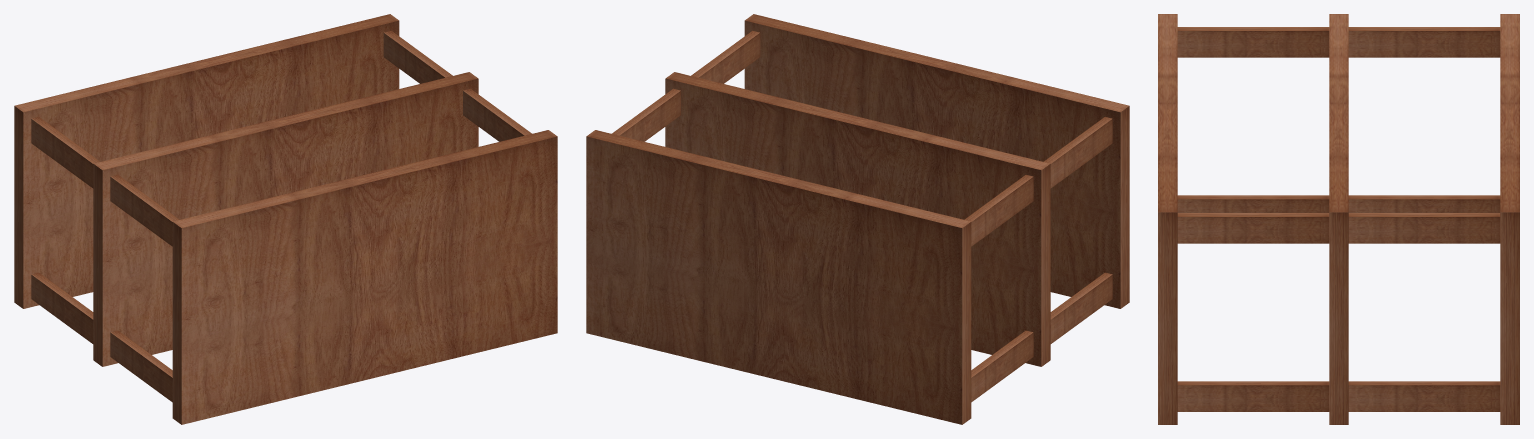
File: book_shelf.obj
The picture shows the model from 3 angles, left to right: view 1: azimuth 30°, elevation 25°; view 2: azimuth 150°, elevation 25°; view 3: azimuth 270°, elevation 25°; orthographic projection. The views are drawn at different scales.
Visible parts, largest first — view 1: Cube_03, Cube_02, Cube, Cube_08, Cube_07, Cube_06, Cube_09, Cube_10, Cube_05; view 2: Cube, Cube_02, Cube_03, Cube_07, Cube_08, Cube_09, Cube_06, Cube_05, Cube_10; view 3: Cube, Cube_02, Cube_03, Cube_01, Cube_04, Cube_05, Cube_07, Cube_08, Cube_10, Cube_06, Cube_09.
Boxes of the visible parts, x1,y1,x2,y2 form: Cube_03: [172, 130, 557, 424]; Cube_02: [93, 72, 478, 366]; Cube: [14, 14, 399, 308]; Cube_08: [31, 117, 100, 188]; Cube_07: [110, 175, 179, 246]; Cube_06: [110, 330, 172, 402]; Cube_09: [31, 272, 93, 343]; Cube_10: [383, 30, 452, 83]; Cube_05: [463, 88, 531, 141]; Cube: [586, 130, 971, 424]; Cube_02: [665, 72, 1050, 366]; Cube_03: [744, 14, 1129, 308]; Cube_07: [1043, 117, 1112, 188]; Cube_08: [964, 175, 1033, 246]; Cube_09: [971, 330, 1033, 402]; Cube_06: [1050, 272, 1112, 343]; Cube_05: [691, 30, 760, 83]; Cube_10: [612, 88, 680, 141]; Cube: [1500, 14, 1519, 424]; Cube_02: [1329, 14, 1348, 424]; Cube_03: [1158, 14, 1177, 424]; Cube_01: [1348, 381, 1500, 411]; Cube_04: [1177, 381, 1329, 411]; Cube_05: [1177, 213, 1329, 243]; Cube_07: [1177, 27, 1329, 57]; Cube_08: [1348, 27, 1500, 57]; Cube_10: [1348, 213, 1500, 243]; Cube_06: [1177, 195, 1329, 212]; Cube_09: [1348, 195, 1500, 212].
Bounding box in the file's own units: 0.48 × 0.24 × 0.37.
1 material, 1 textured.
